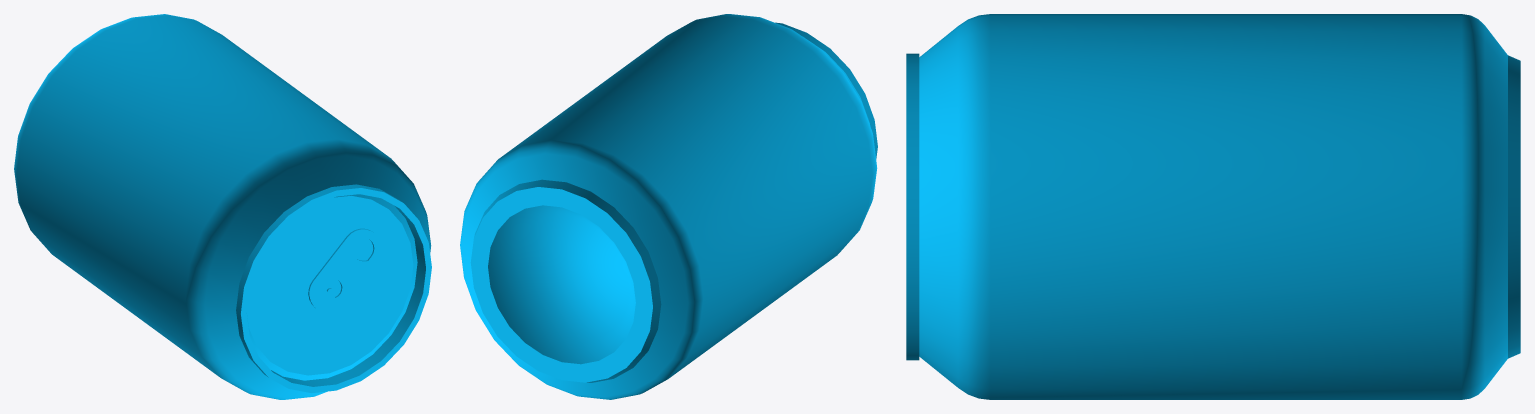
The model's file is model_scale.obj.
The picture shows the model from 3 angles, left to right: view 1: azimuth 30°, elevation 25°; view 2: azimuth 150°, elevation 25°; view 3: azimuth 270°, elevation 25°; orthographic projection. The views are drawn at different scales.
Parts seen in each view (by area): view 1: mesh1_mesh1-geometry, mesh12_mesh12-geometry; view 2: mesh1_mesh1-geometry; view 3: mesh1_mesh1-geometry.
Part boxes in pixels (x1,y1,x2,y2): mesh1_mesh1-geometry: (14, 14, 431, 399); mesh12_mesh12-geometry: (308, 228, 381, 312); mesh1_mesh1-geometry: (460, 14, 877, 399); mesh1_mesh1-geometry: (906, 14, 1520, 399).
Bounding box in the file's own units: 0.0714 × 0.0714 × 0.1132.
